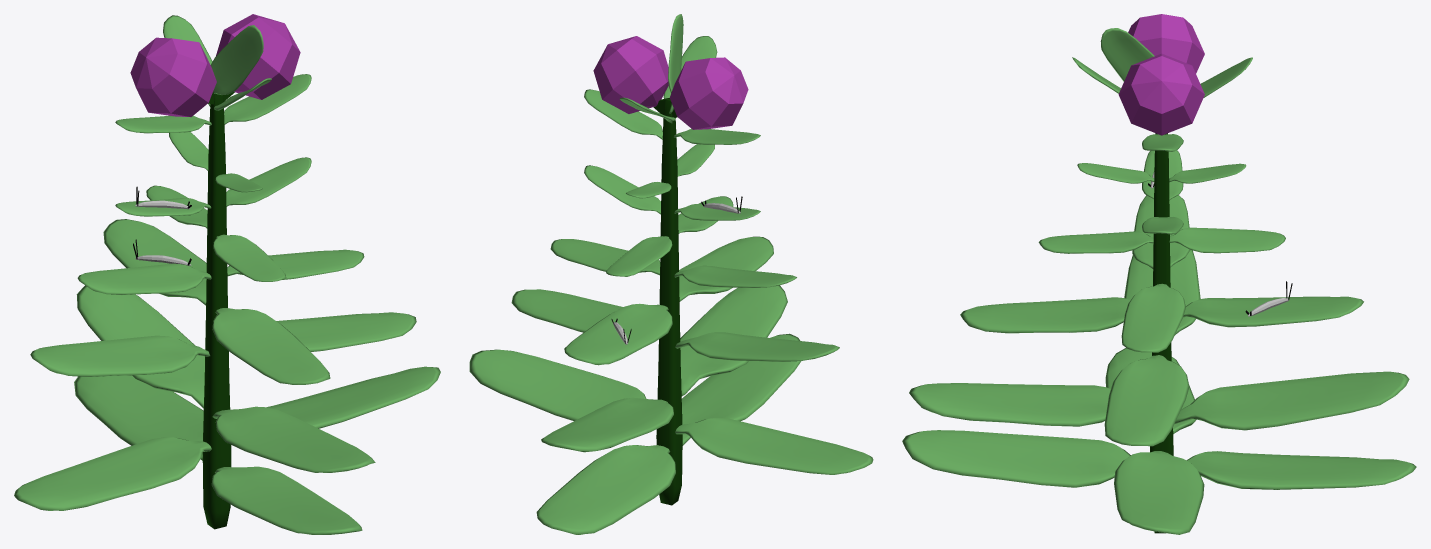
Rendered from milkweed_with_cat.fbx.
3 renders of one model, left to right at view 1: azimuth 30°, elevation 25°; view 2: azimuth 150°, elevation 25°; view 3: azimuth 270°, elevation 25°, orthographic. The views are drawn at different scales.
Parts seen in each view (by area): view 1: pSphere5; view 2: pSphere5; view 3: pSphere5.
Part boxes in pixels (x1,y1,x2,y2): pSphere5: (14, 14, 440, 534); pSphere5: (469, 14, 873, 534); pSphere5: (902, 14, 1416, 534).
Size of the model in its own units: 0.7875 by 0.8989 by 0.8229.
